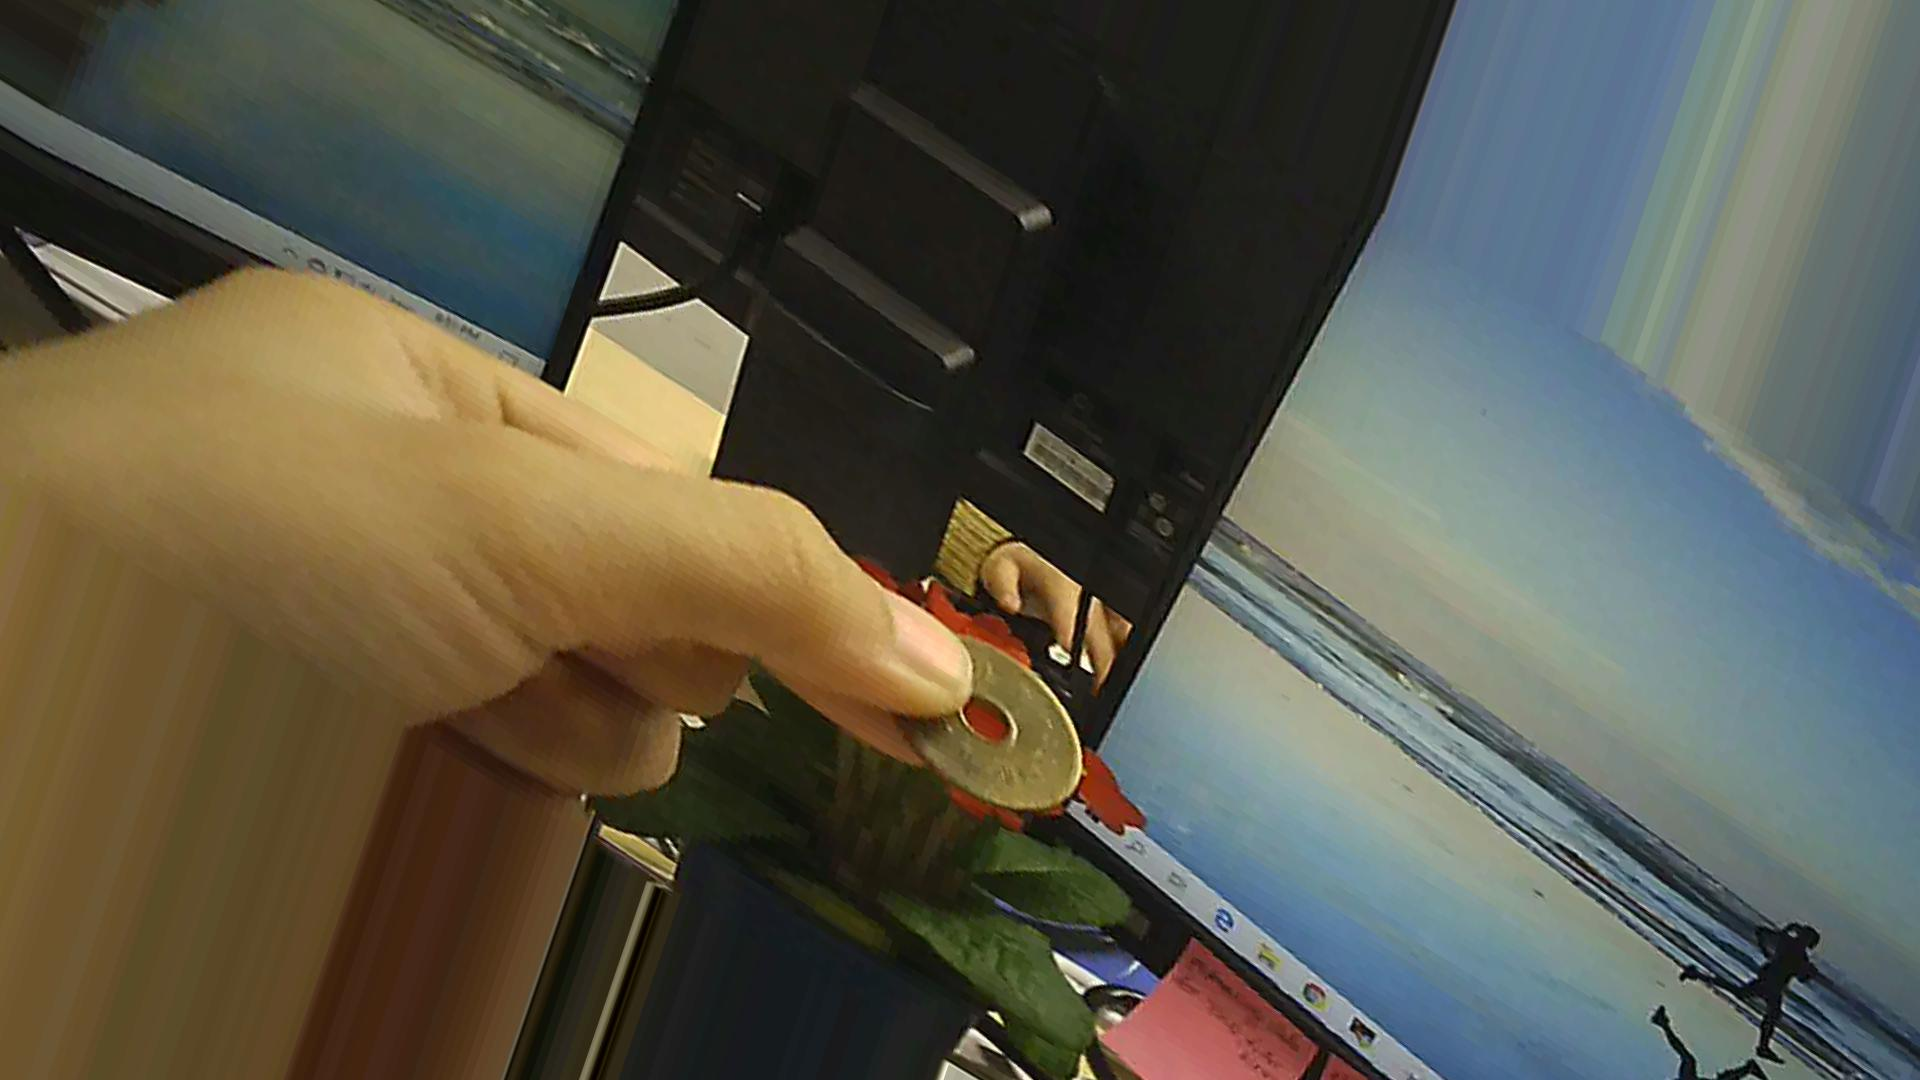5 Yen: (886, 622, 1077, 796)
